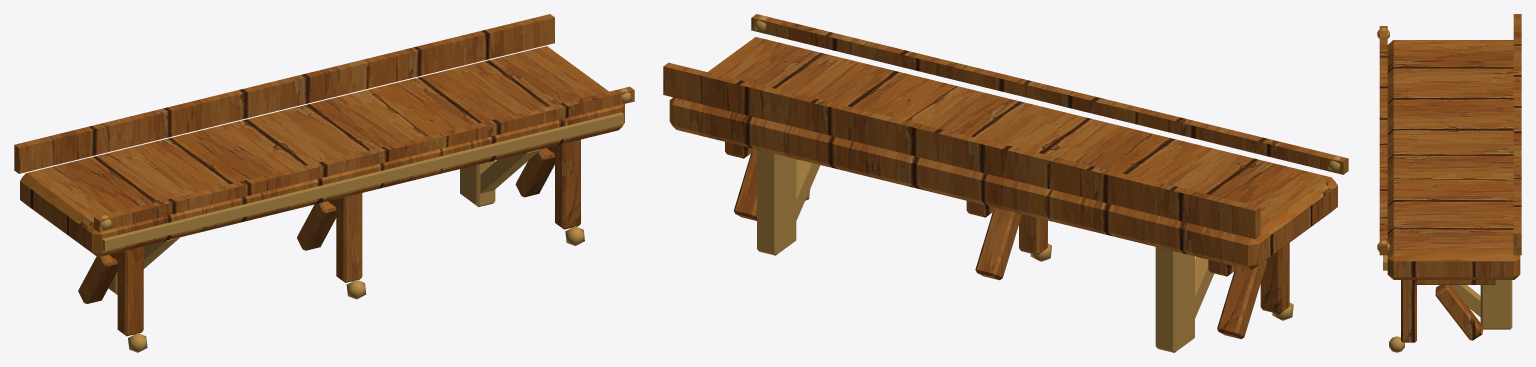
3 views of the same model, side by side, from view 1: azimuth 30°, elevation 25°; view 2: azimuth 150°, elevation 25°; view 3: azimuth 270°, elevation 25° (orthographic). The views are drawn at different scales.
Visible parts, largest first — view 1: clockshop_walnut, clockshop_walnut.001, clockshop_brass, clockshop_brass.001; view 2: clockshop_walnut, clockshop_walnut.001, clockshop_brass, clockshop_brass.001; view 3: clockshop_walnut, clockshop_walnut.001, clockshop_brass, clockshop_brass.001.
Boxes of the visible parts, x1,y1,x2,y2 form: clockshop_walnut: [20, 46, 624, 257]; clockshop_walnut.001: [14, 14, 634, 336]; clockshop_brass: [102, 112, 624, 294]; clockshop_brass.001: [101, 88, 631, 352]; clockshop_walnut: [669, 37, 1337, 270]; clockshop_walnut.001: [663, 14, 1348, 338]; clockshop_brass: [757, 149, 1214, 352]; clockshop_brass.001: [754, 15, 1340, 320]; clockshop_walnut: [1387, 40, 1520, 279]; clockshop_walnut.001: [1379, 14, 1521, 342]; clockshop_brass: [1383, 255, 1512, 329]; clockshop_brass.001: [1377, 27, 1404, 352].
Bounding box in the file's own units: 1.96 × 0.58 × 0.5438.
Materials: 2 (1 with a texture image).
